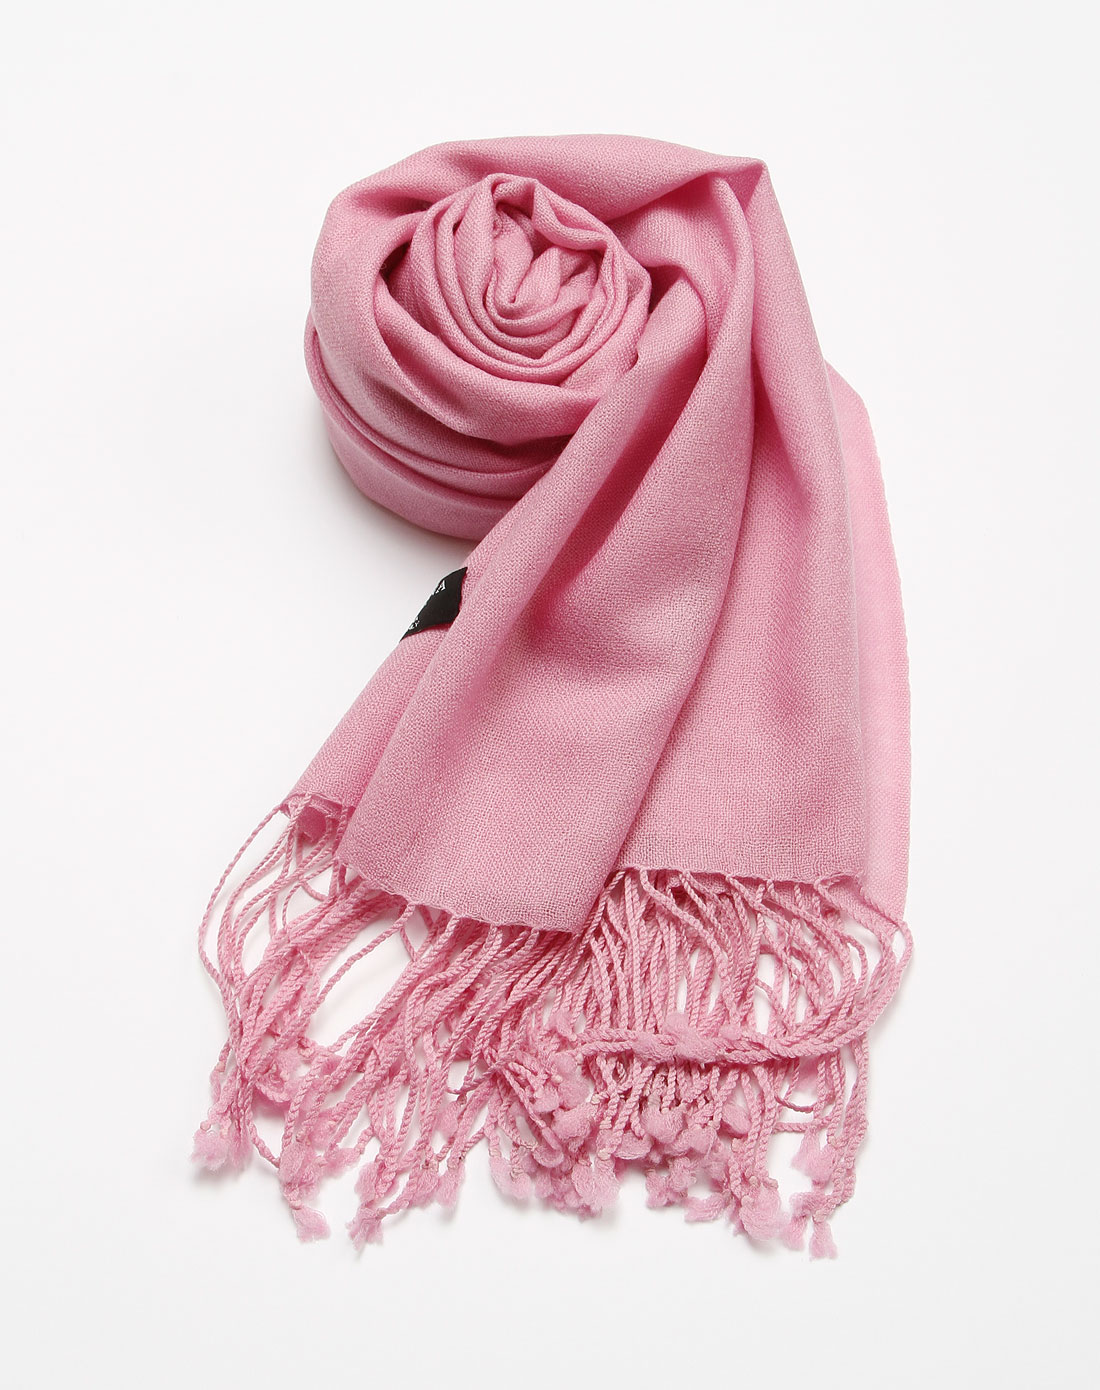flexible: (184, 111, 921, 1266)
